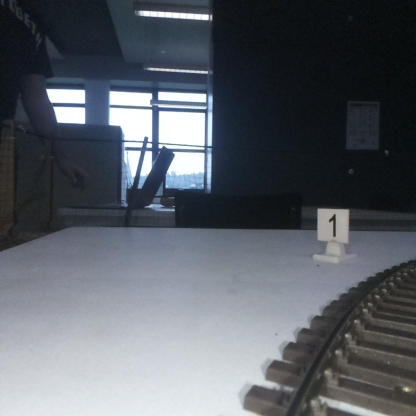white-stop-1: (317, 209, 348, 259)
